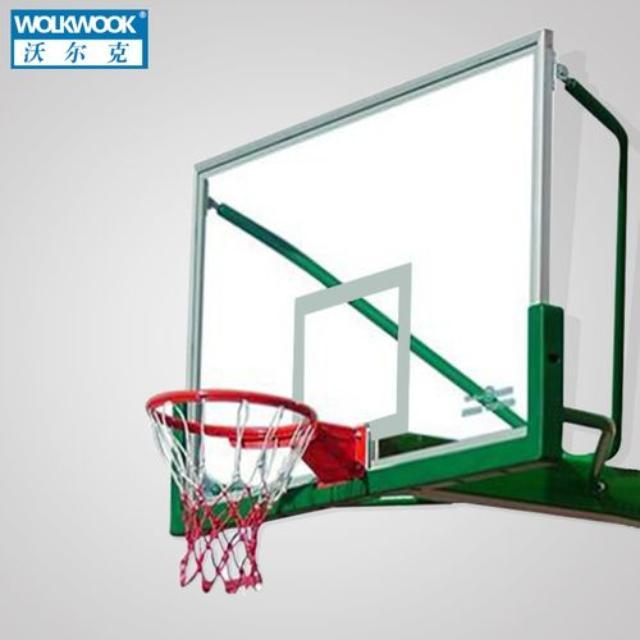rim: (146, 388, 318, 594)
